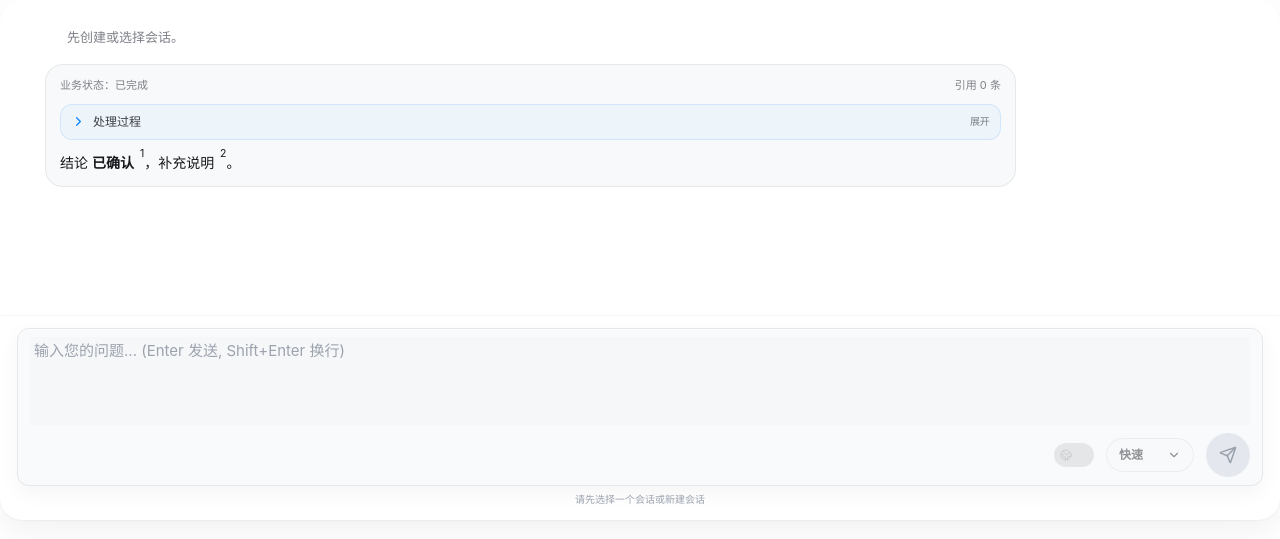
HarnessChat › hides old raw reasoning and displays only the safe process label
Click the text "处理过程".
click(117, 122)  # box [93,112,141,131]
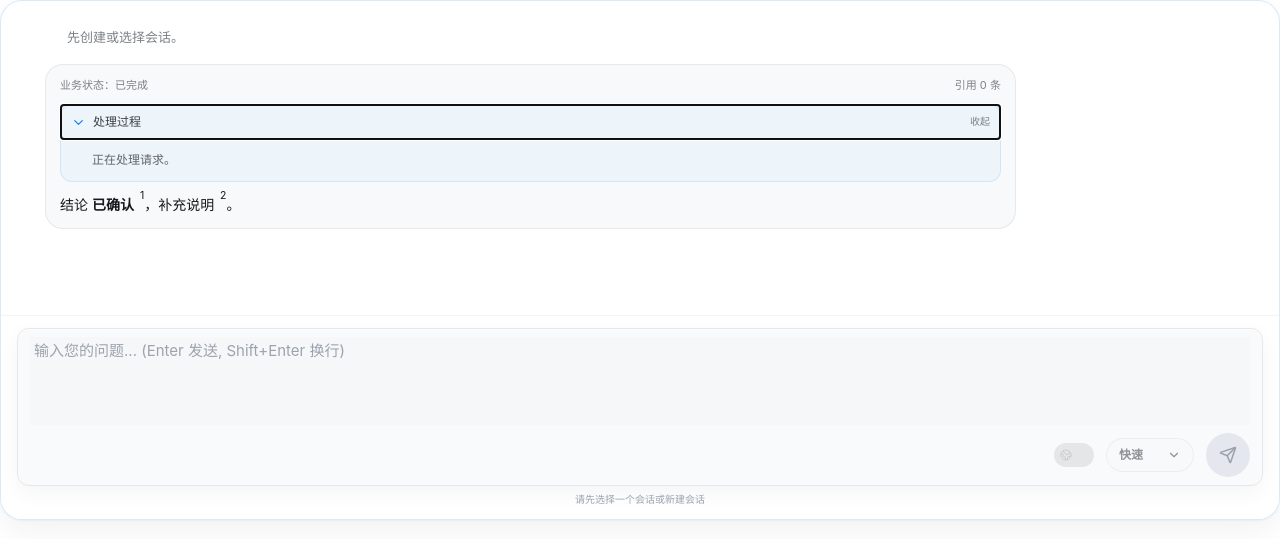
Check: the text "正在处理请求。" is shown, box [61,139,1000,181]
